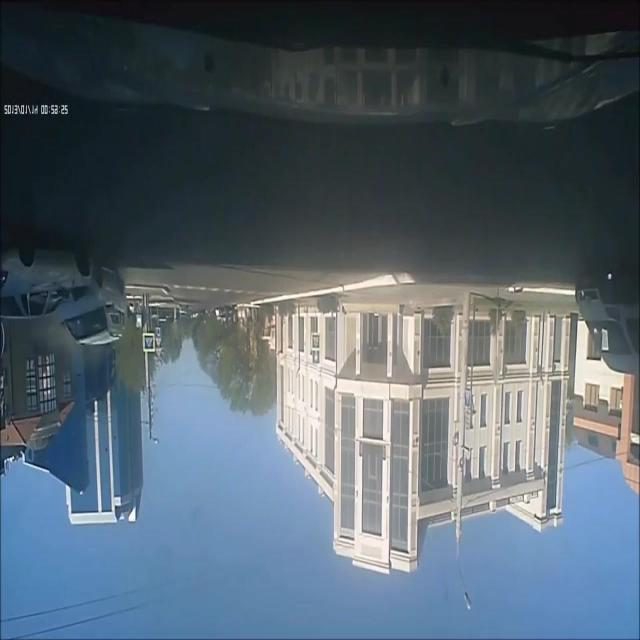moderate: (0, 230, 134, 352)
